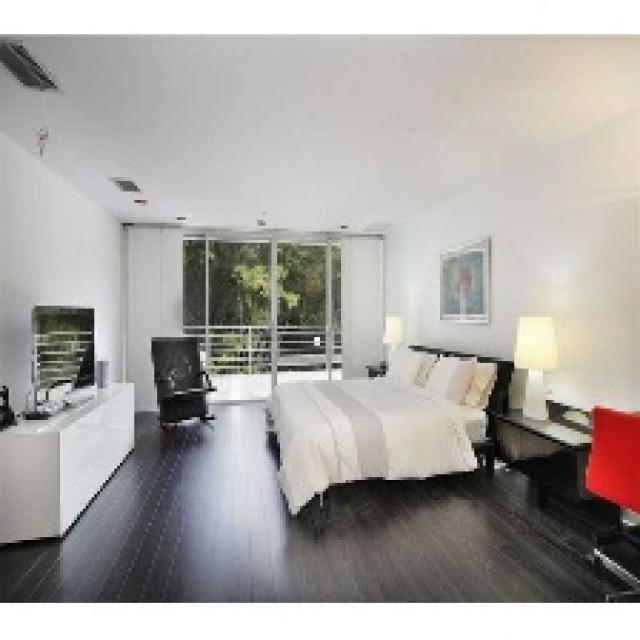Bed: (263, 343, 511, 514)
